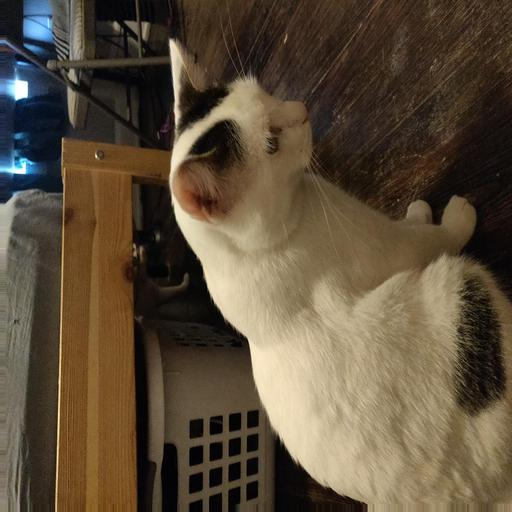cat: (162, 35, 504, 377)
